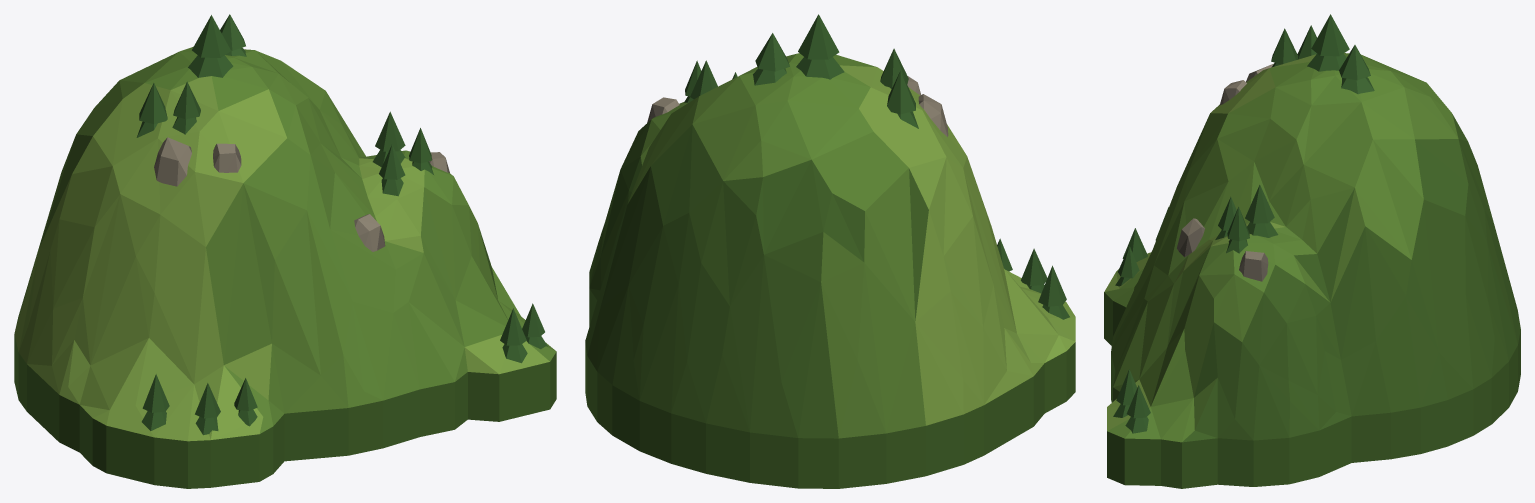
File: forest_single.glb
3 renders of one model, left to right at view 1: azimuth 30°, elevation 25°; view 2: azimuth 150°, elevation 25°; view 3: azimuth 270°, elevation 25°, orthographic. The views are drawn at different scales.
Parts seen in each view (by area): view 1: forest_single; view 2: forest_single; view 3: forest_single.
Part boxes in pixels (box(x1,y1,x2,y2)): forest_single: box(14, 14, 556, 488); forest_single: box(585, 14, 1075, 488); forest_single: box(1104, 14, 1520, 488).
Size of the model in its own units: 1.4 by 1.15 by 1.22.
